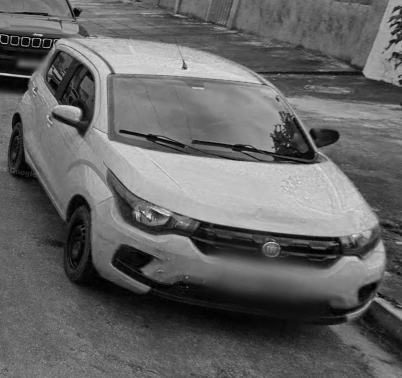car: (11, 34, 389, 333)
